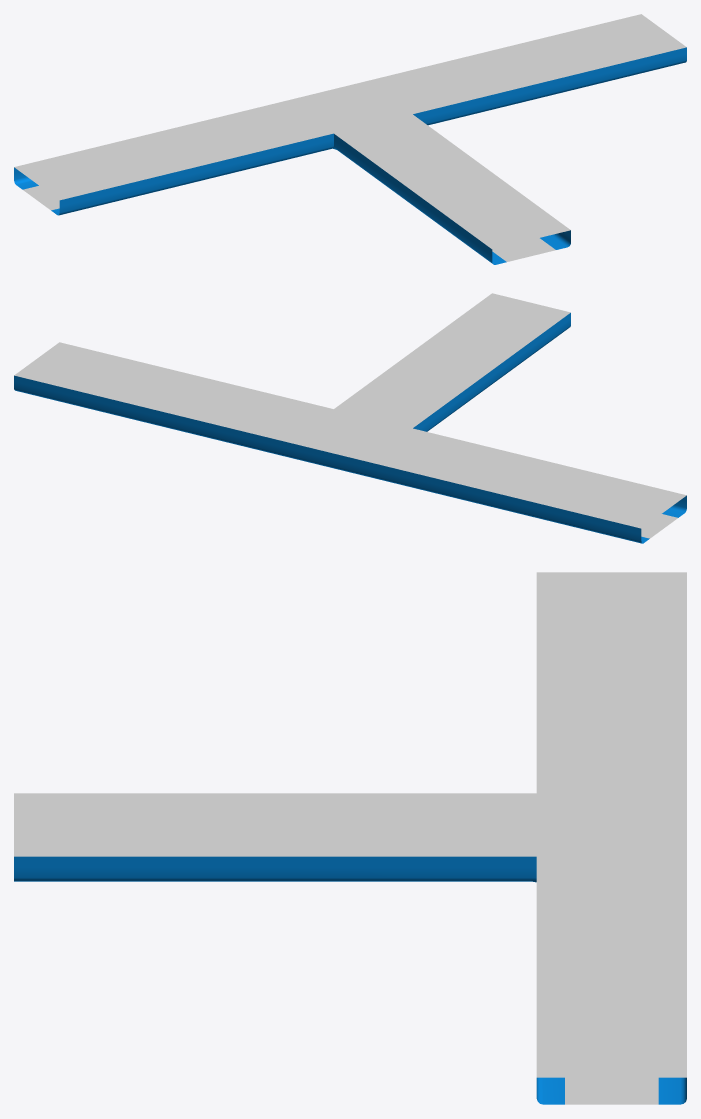
The model's file is Corridor_part_Lighttube_T.fbx.
3 renders of one model, top to bottom at view 1: azimuth 30°, elevation 25°; view 2: azimuth 150°, elevation 25°; view 3: azimuth 270°, elevation 25°, orthographic. The views are drawn at different scales.
Parts seen in each view (by area): view 1: Corridor_part_lighttube_T; view 2: Corridor_part_lighttube_T; view 3: Corridor_part_lighttube_T.
Part boxes in pixels (<box>): Corridor_part_lighttube_T: <box>14,14,686,264</box>; Corridor_part_lighttube_T: <box>14,293,686,543</box>; Corridor_part_lighttube_T: <box>14,572,686,1104</box>.
Size of the model in its own units: 800 by 19.9 by 450.
